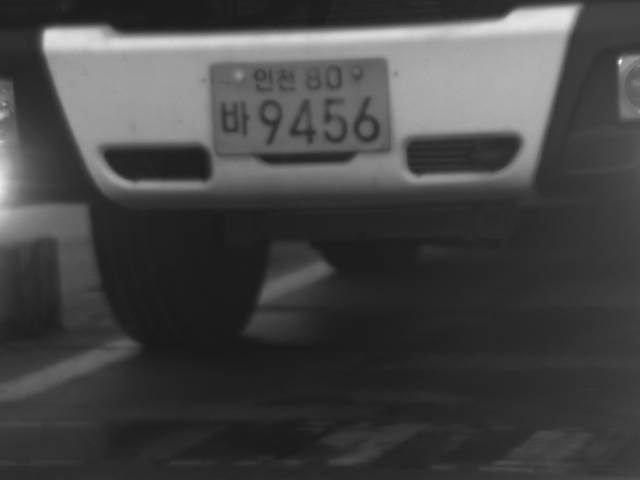car: (1, 1, 638, 349)
plate: (206, 57, 393, 154)
